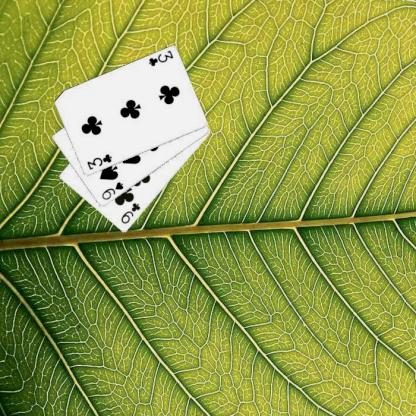3C: (146, 48, 174, 68), (84, 152, 113, 171)
9C: (118, 200, 142, 225)
9S: (99, 180, 125, 202)
